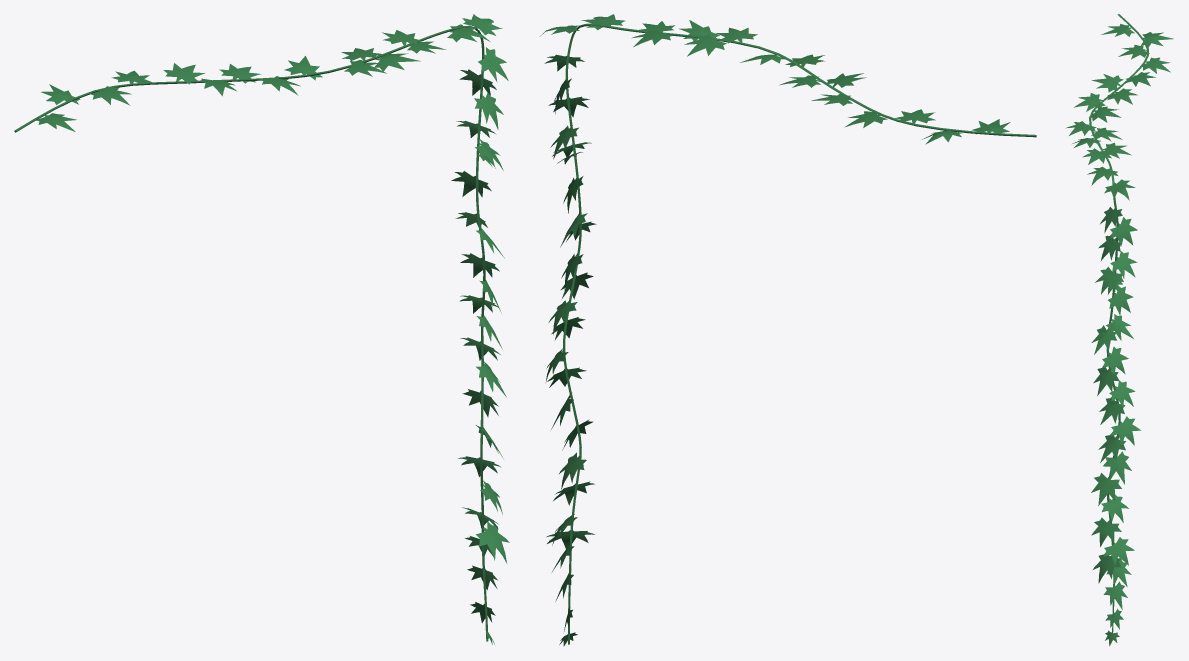
File: vine_A_alangium.fbx
3 views of the same model, side by side, from view 1: azimuth 30°, elevation 25°; view 2: azimuth 150°, elevation 25°; view 3: azimuth 270°, elevation 25° (orthographic). The views are drawn at different scales.
Visible parts, largest first — view 1: vine_A_alangium_root; view 2: vine_A_alangium_root; view 3: vine_A_alangium_root, vine_A_alangium_leaf_A10, vine_A_alangium_leaf_A12, vine_A_alangium_leaf_B2, vine_A_alangium_leaf_B24, vine_A_alangium_leaf_B1, vine_A_alangium_leaf_B10, vine_A_alangium_leaf_B25, vine_A_alangium_leaf_A11, vine_A_alangium_leaf_B4, vine_A_alangium_leaf_A14, vine_A_alangium_leaf_B26 (+27 smaller).
Part boxes in pixels (<box>): vine_A_alangium_root: <box>14,25,488,641</box>; vine_A_alangium_root: <box>563,23,1036,644</box>; vine_A_alangium_root: <box>1089,14,1148,632</box>; vine_A_alangium_leaf_A10: <box>1091,473,1121,505</box>; vine_A_alangium_leaf_A12: <box>1103,451,1131,484</box>; vine_A_alangium_leaf_B2: <box>1111,416,1140,445</box>; vine_A_alangium_leaf_B24: <box>1104,537,1134,565</box>; vine_A_alangium_leaf_B1: <box>1091,517,1121,546</box>; vine_A_alangium_leaf_B10: <box>1110,217,1137,246</box>; vine_A_alangium_leaf_B25: <box>1093,553,1121,583</box>; vine_A_alangium_leaf_A11: <box>1098,432,1125,462</box>; vine_A_alangium_leaf_B4: <box>1102,346,1128,376</box>; vine_A_alangium_leaf_A14: <box>1093,364,1119,395</box>; vine_A_alangium_leaf_B26: <box>1101,494,1128,522</box>.
Bounding box in the file's own units: 412 × 508 × 108.
